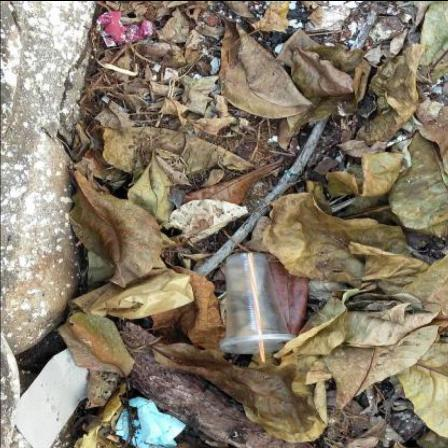Carton: (17, 349, 89, 448)
Cigarette: (105, 433, 121, 443)
Cup: (220, 253, 297, 355)
Lid: (220, 335, 298, 355)
Other litter: (73, 259, 194, 321)
Paper: (116, 397, 188, 448), (96, 12, 154, 48)
Straw: (248, 253, 266, 363)
